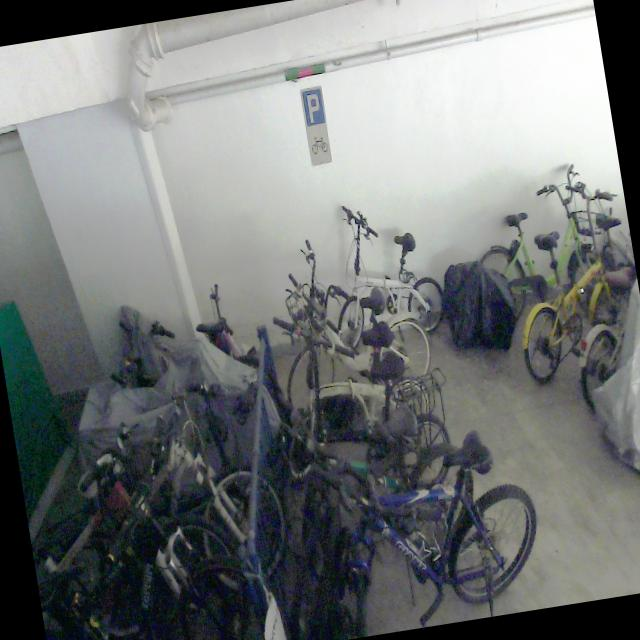bike: (262, 420, 549, 640), (280, 374, 485, 567), (264, 220, 436, 408), (266, 294, 438, 480), (497, 173, 640, 384), (464, 157, 624, 344), (319, 190, 451, 352)
